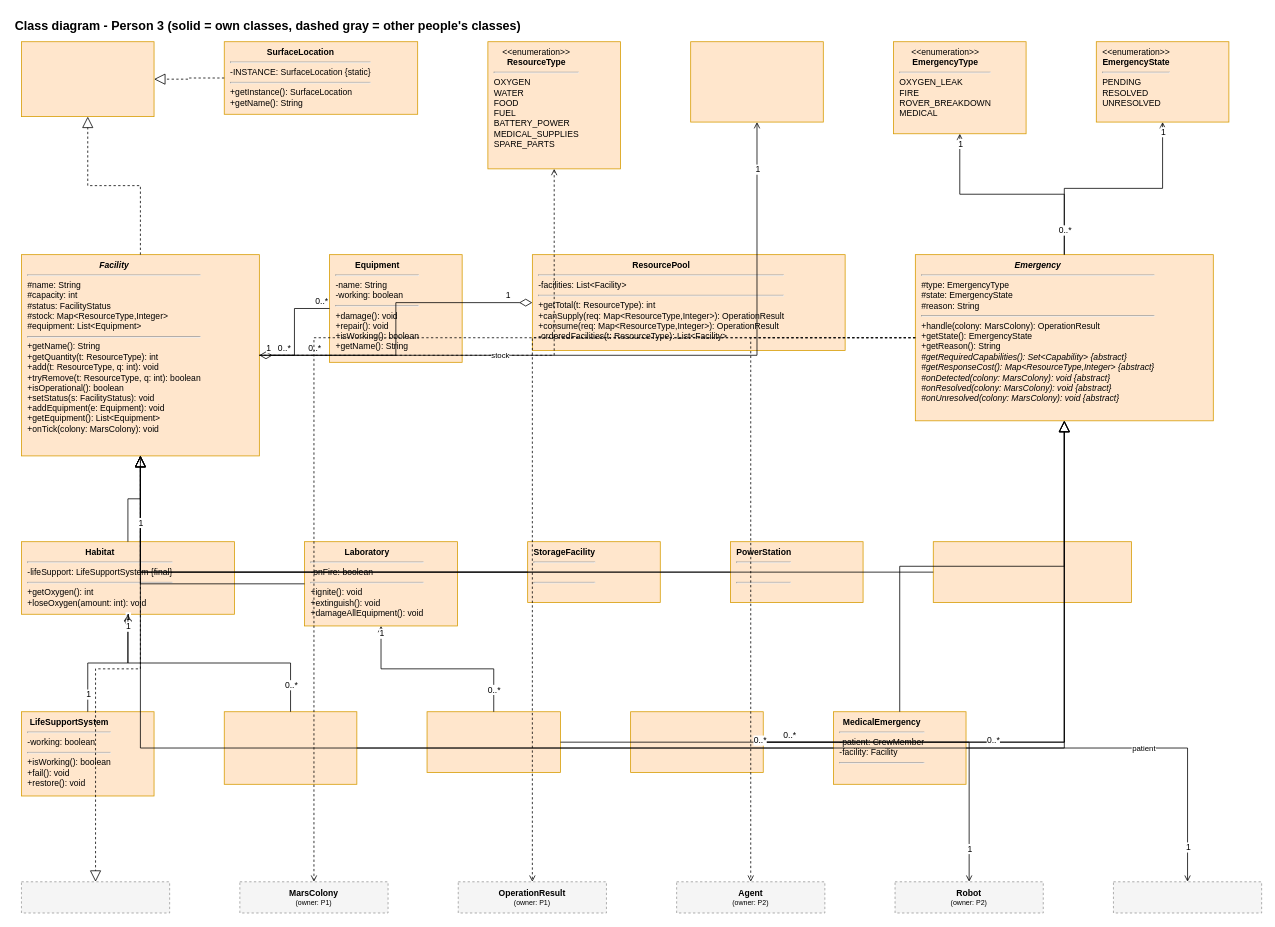
Image size: 1275x927. Some labels were removed from this diagram. The centre of each missing label's shape, as x and y in pixels:
"<<enumeration>> FacilityStatus OPERATIONAL UNAVAILABLE DESTROYED" belongs at pixel 756 81.
"<<interface>> Location +getName(): String" belongs at pixel 87 79.
"CommunicationStation +isCommunicationAvailable(): boolean" belongs at pixel 1031 572.
"CrewMember (owner: P2)" belongs at pixel 1187 897.
"Fire -laboratory: Laboratory" belongs at pixel 493 742.
"OxygenLeak -habitat: Habitat -leakAmount: int" belongs at pixel 290 747.
"RoverBreakdown -rover: Robot" belongs at pixel 696 742.
"Tickable (owner: P1)" belongs at pixel 95 897.
